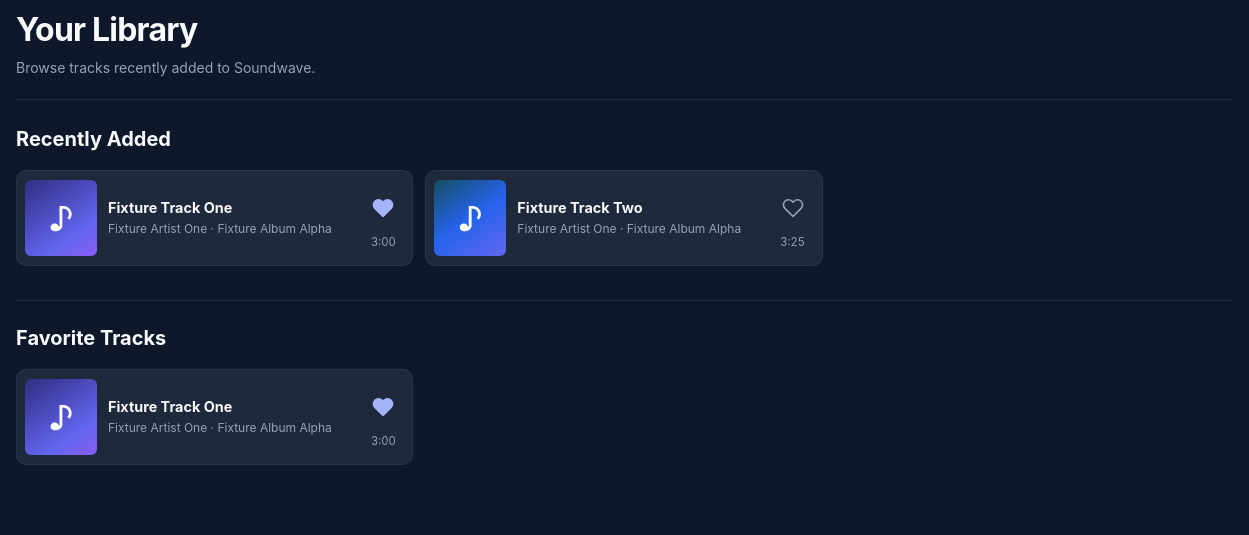
Scenario: SCRUM-362 Favorites write integration › shows an API error without falsely adding the track
Click the button named "Add Fixture Track Two to Favorites" at (793, 208), box [773,187,813,229]
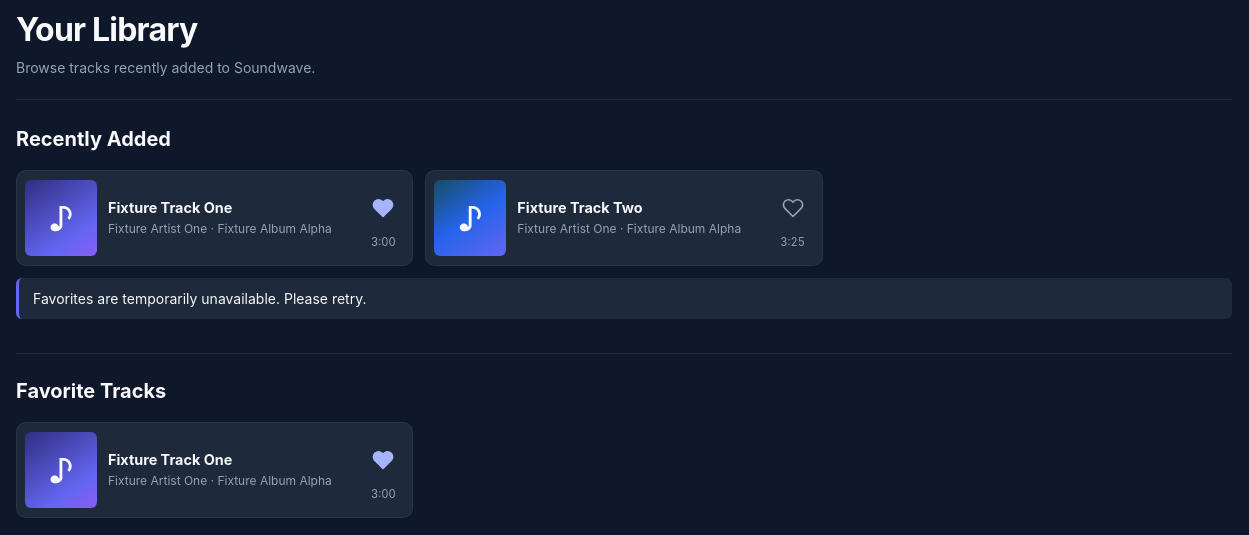
Check: the message shows "Favorites are temporarily unavailable", box [33,290,366,307]
